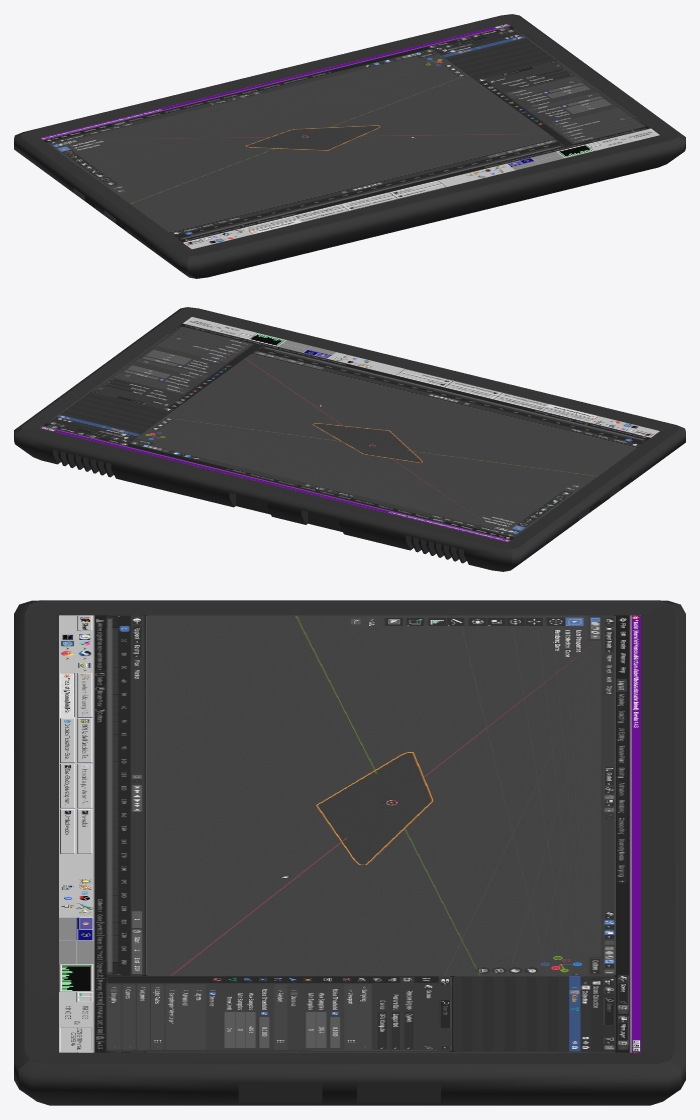
File: tablet.glb
3 renders of one model, top to bottom at view 1: azimuth 30°, elevation 25°; view 2: azimuth 150°, elevation 25°; view 3: azimuth 270°, elevation 25°, orthographic. The views are drawn at different scales.
Parts seen in each view (by area): view 1: Tablet; view 2: Tablet; view 3: Tablet.
Boxes of the visible parts, bbox=[...] form: Tablet: bbox=[14, 14, 685, 278]; Tablet: bbox=[14, 307, 685, 571]; Tablet: bbox=[14, 600, 685, 1105].
Size of the model in its own units: 0.4389 by 0.0216 by 0.264.
Materials: 2 (1 with a texture image).
